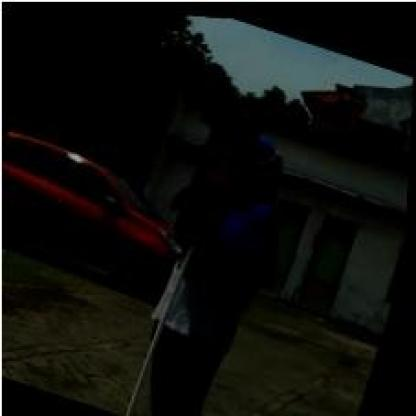yellow: (167, 86, 269, 244)
